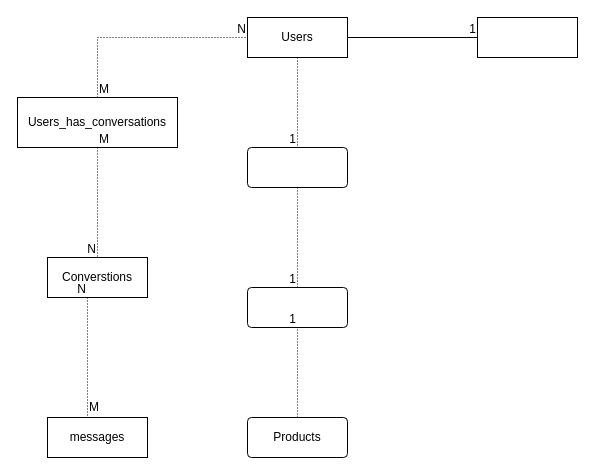
Image size: 595x475. Some labels were removed from this diagram. Each missing label, with the centre of its shape:
Address: the point at 527,37
Order_item: the point at 297,307
Orders: the point at 297,167
